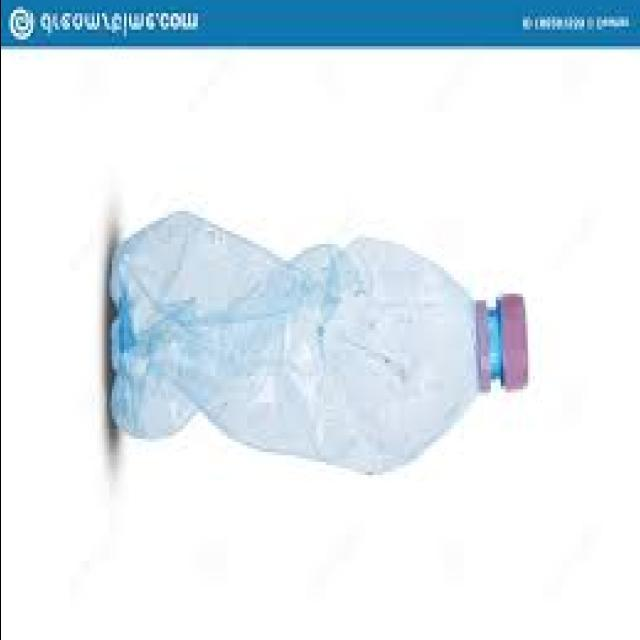defected: (96, 184, 556, 480)
